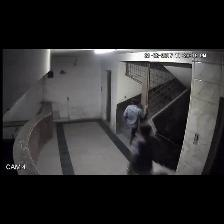person: (124, 99, 147, 144)
